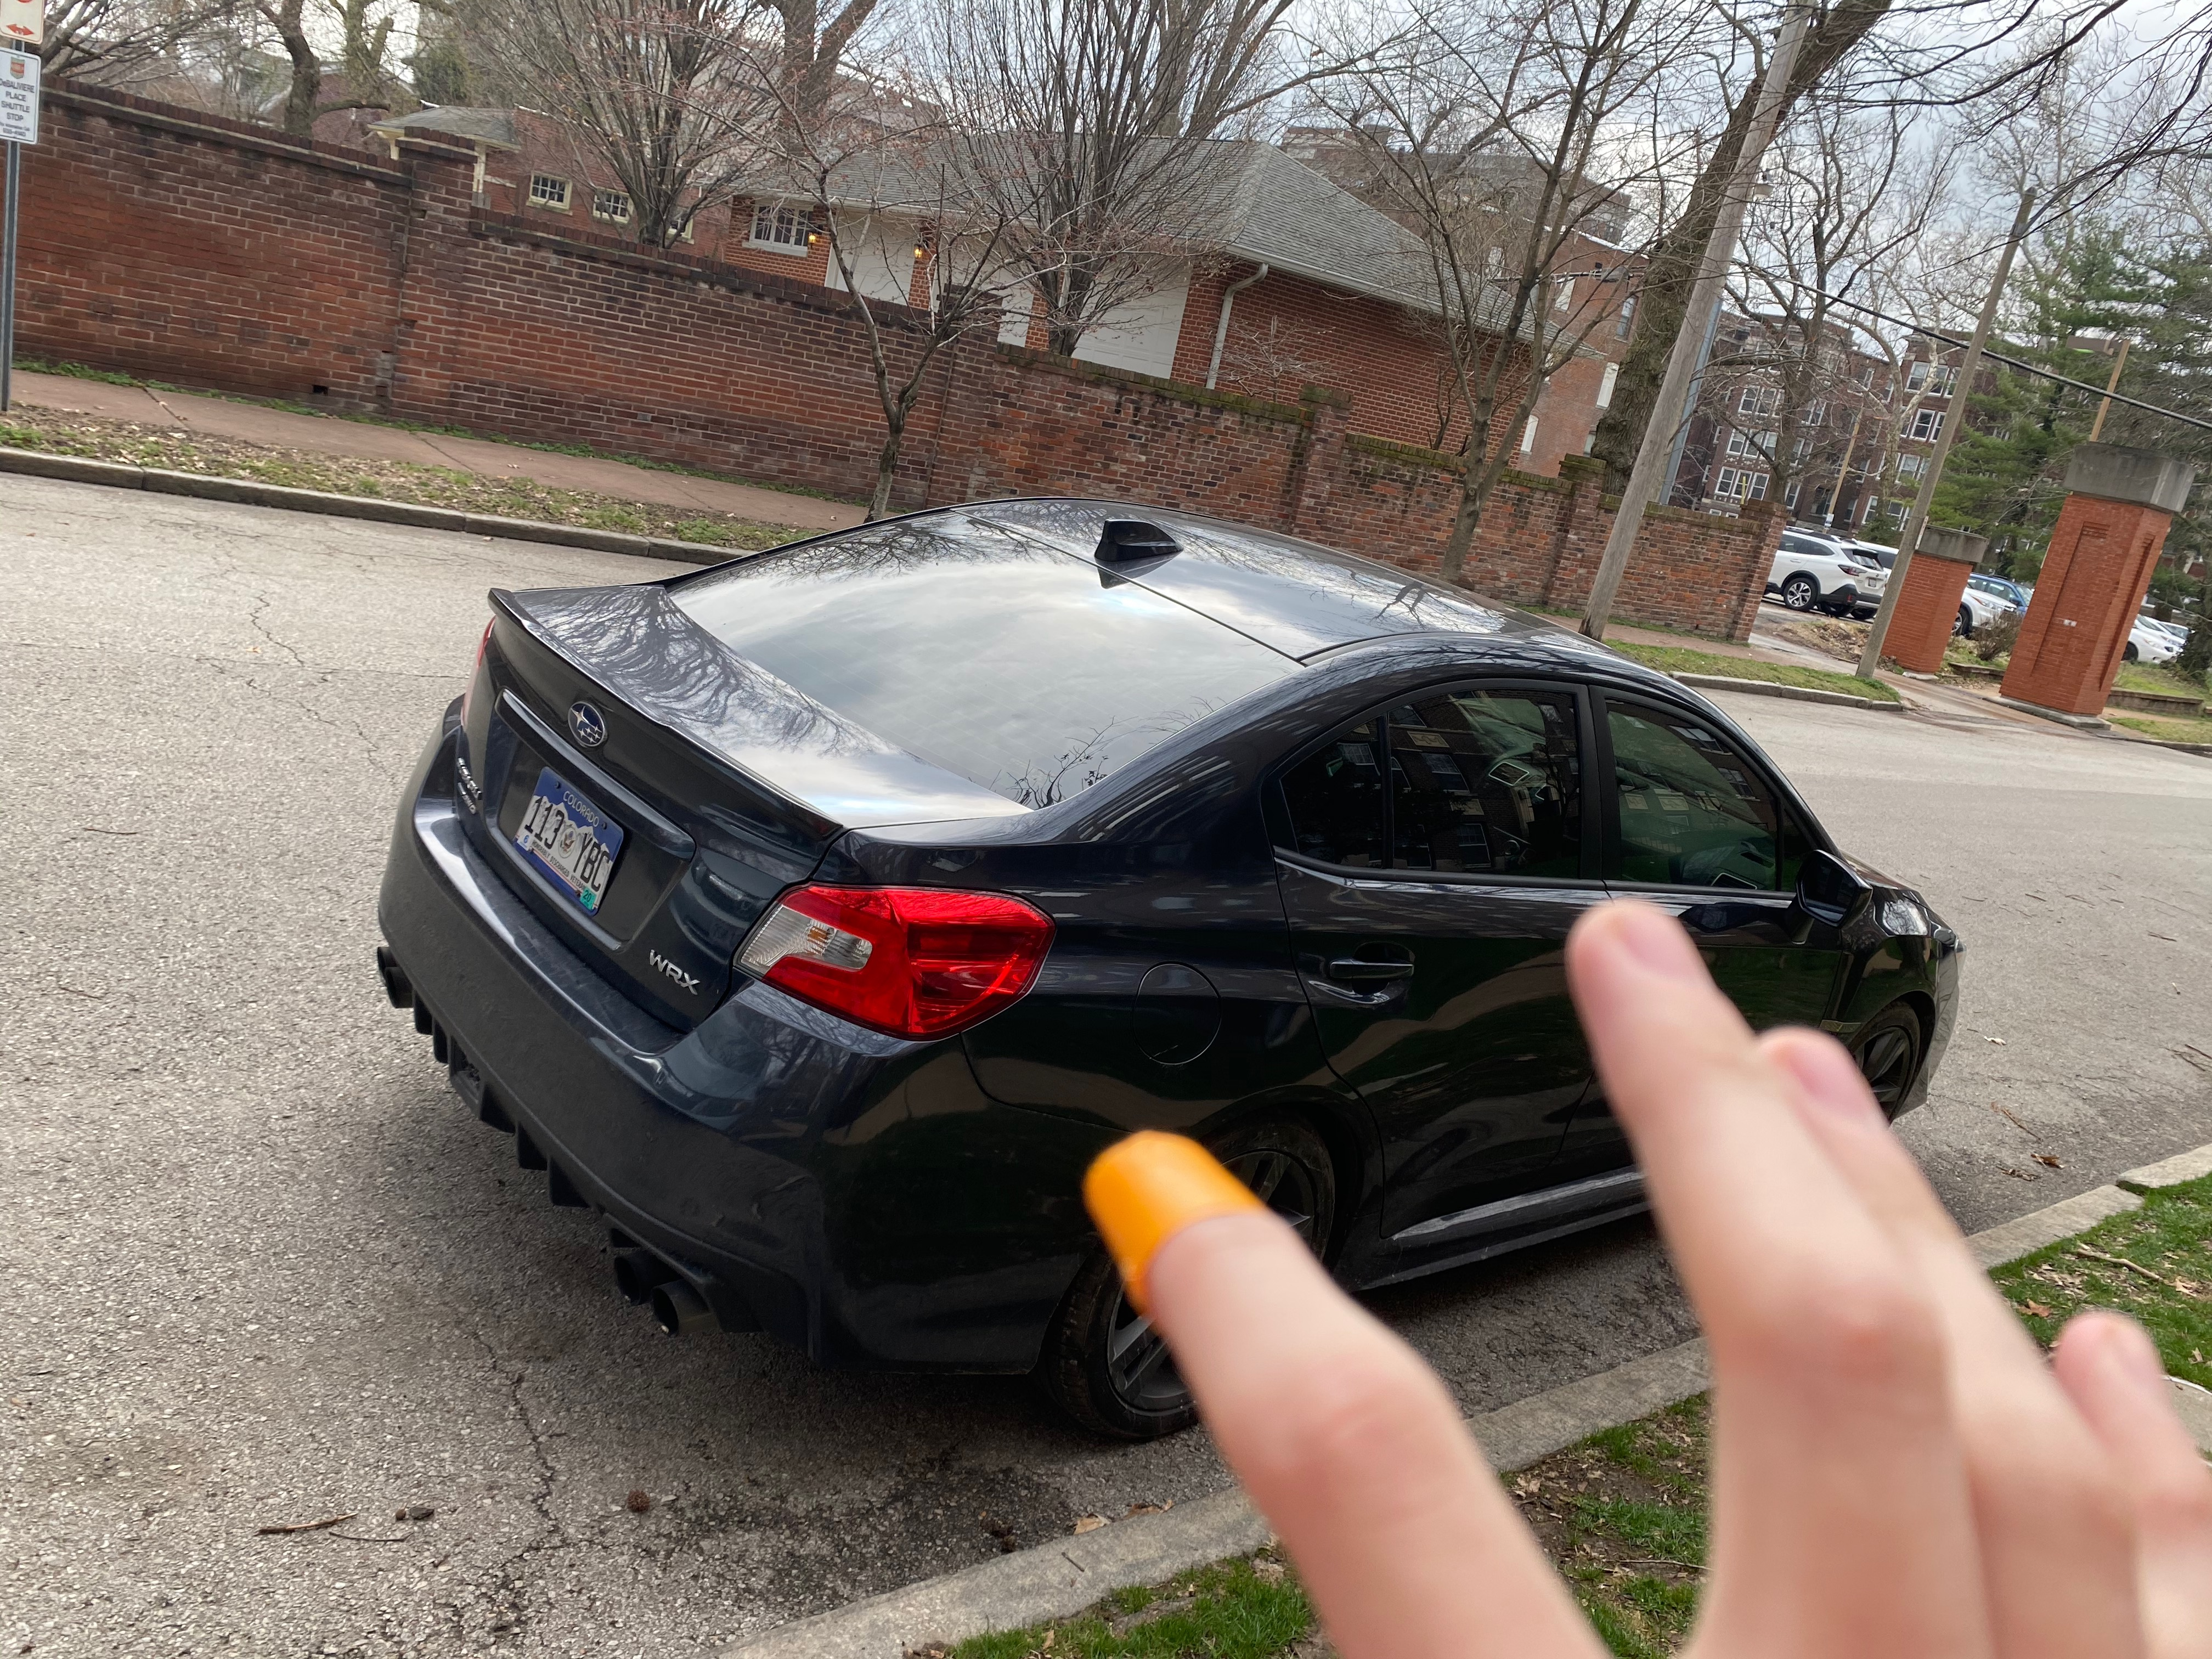fingertip: (1055, 1086, 1392, 1340)
